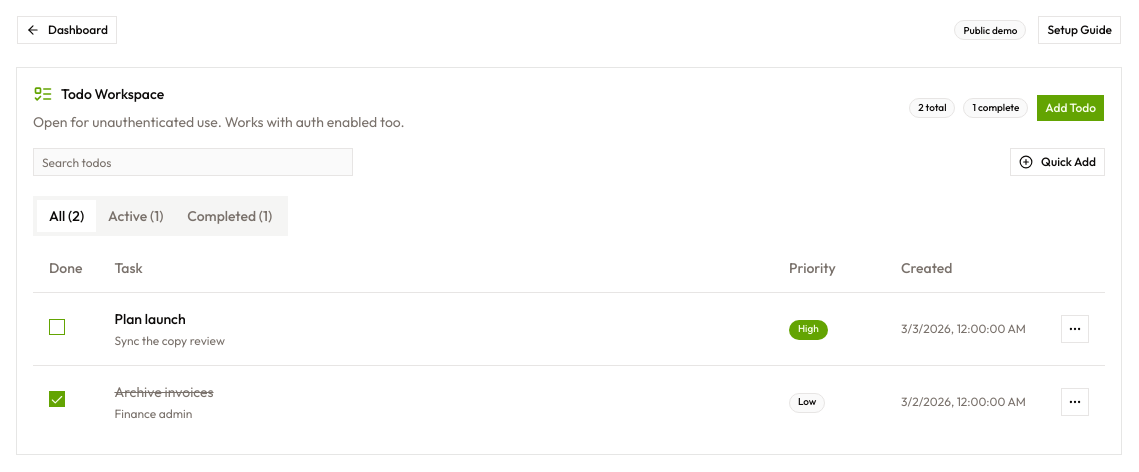
Test case: TodosPage › shows visible totals and lets the user narrow the list with search
expect the icon "2 total" is shown: met, box [909,98,955,118]
expect the text "1 complete" is shown: met, box [964,98,1028,118]
Type "launch" into the field with placeholder "Search todos" at (193, 162), box [33,148,353,176]
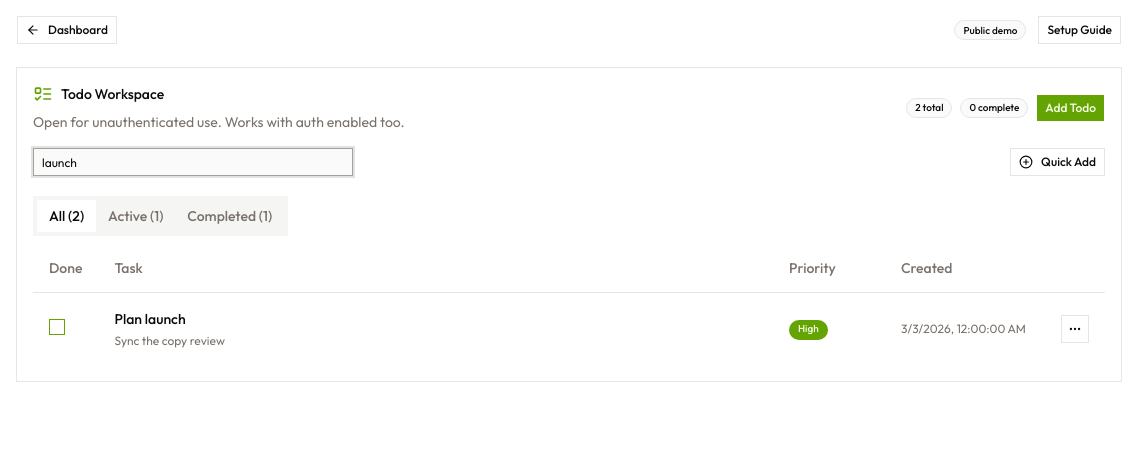
expect the text "Plan launch" is shown: met, box [114,310,186,328]
expect the text "Archive invoices" is gone: met
